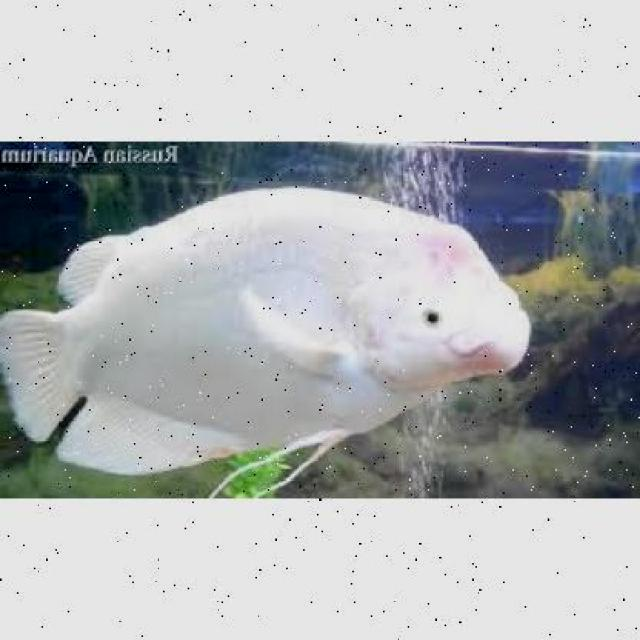gurame: (1, 184, 528, 473)
